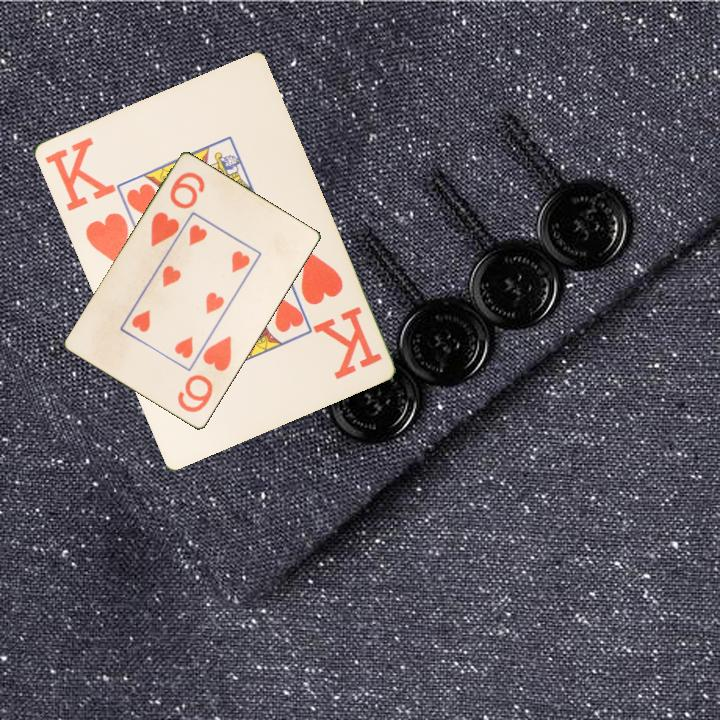6h: (174, 332, 235, 416), (147, 168, 208, 250)
Kh: (40, 133, 132, 271), (296, 245, 385, 382)
